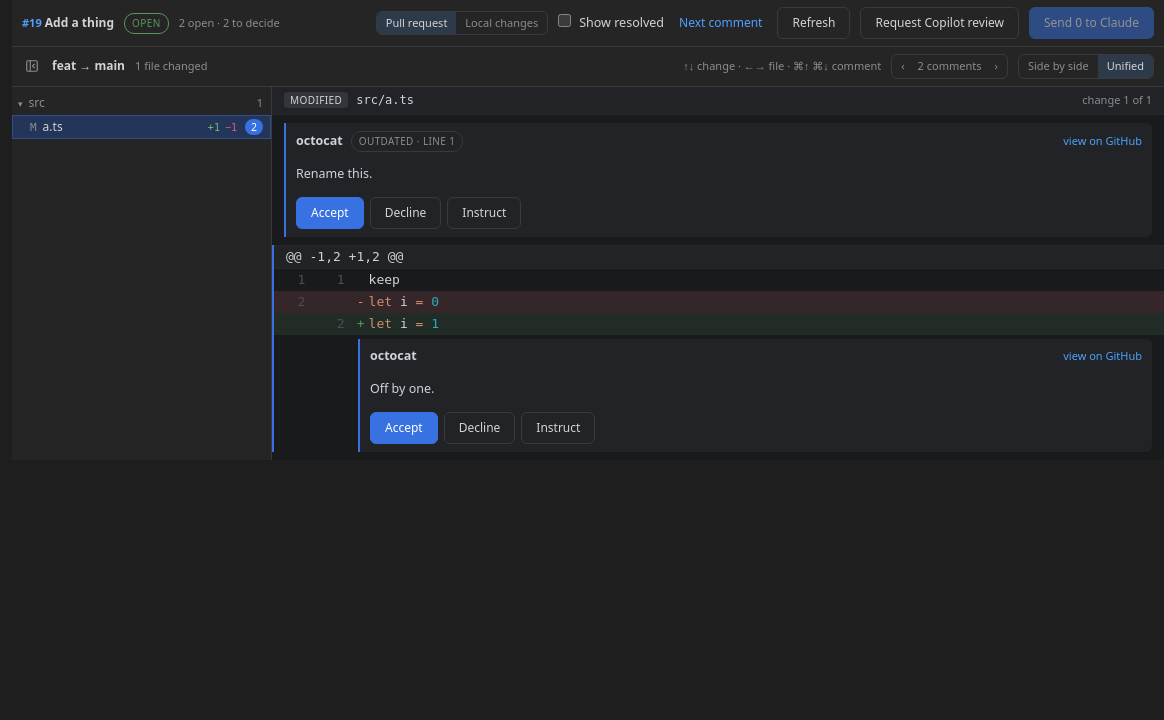
ReviewView › draws open threads on the pull request's diff, and resolved ones only when asked
Expected: the text "Off by one." is shown, x1=370 y1=380 x2=434 y2=396
Expected: the text "Rename this." is shown, x1=296 y1=165 x2=372 y2=182
Click the checkbox labelled "Show resolved": (565, 20) x1=558 y1=14 x2=571 y2=27
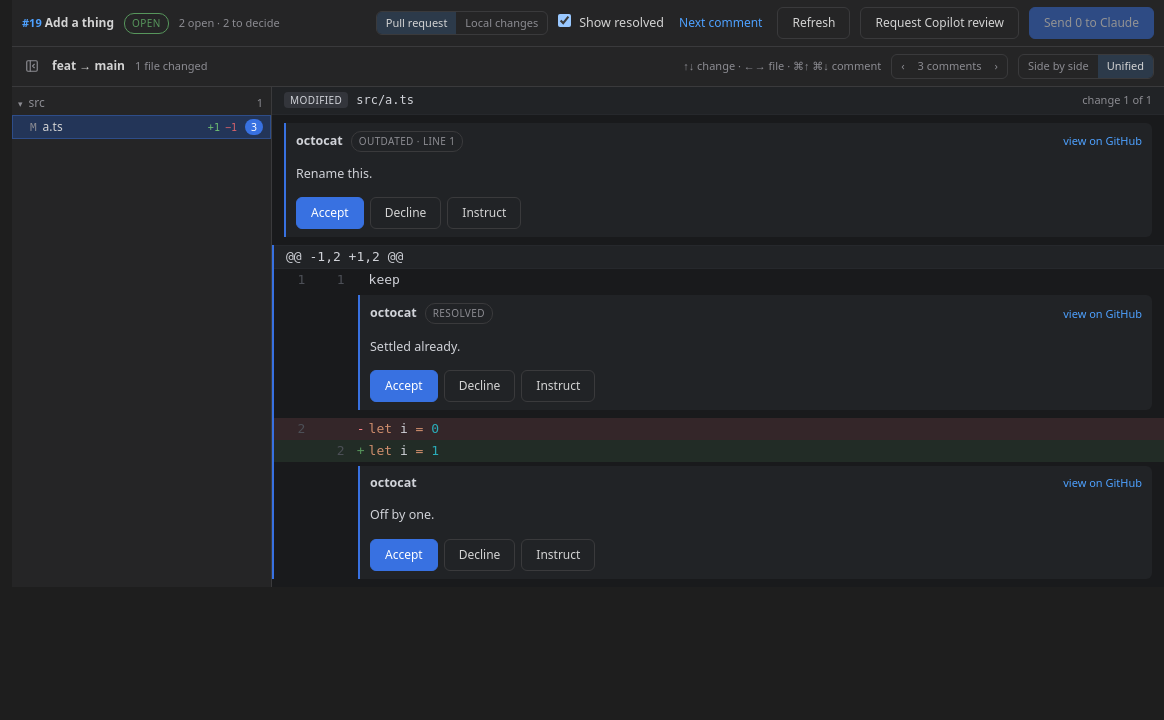
Expected: the text "Settled already." is shown, x1=370 y1=338 x2=460 y2=355
